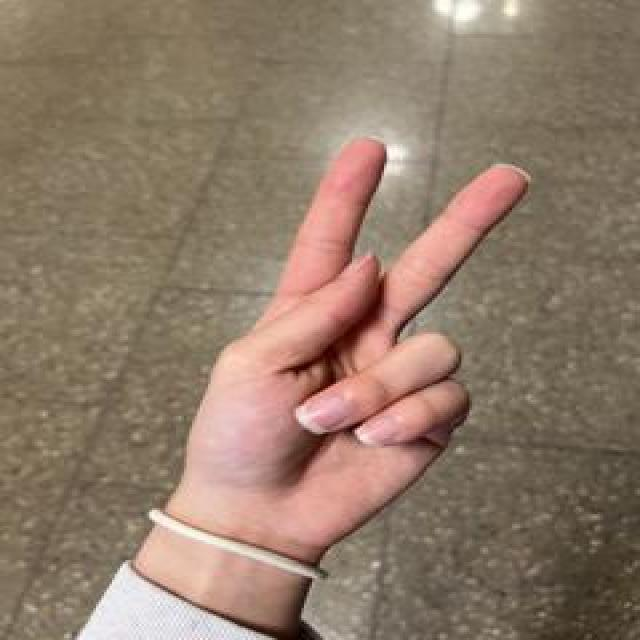K: (165, 132, 536, 558)
